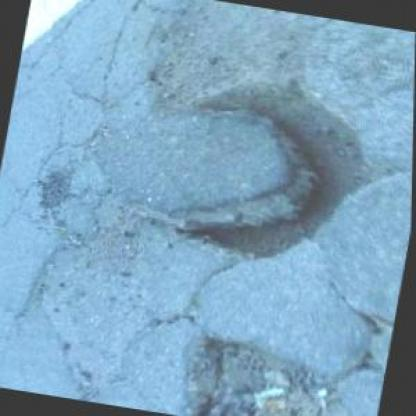pothole: (143, 60, 394, 277), (178, 326, 357, 414)
